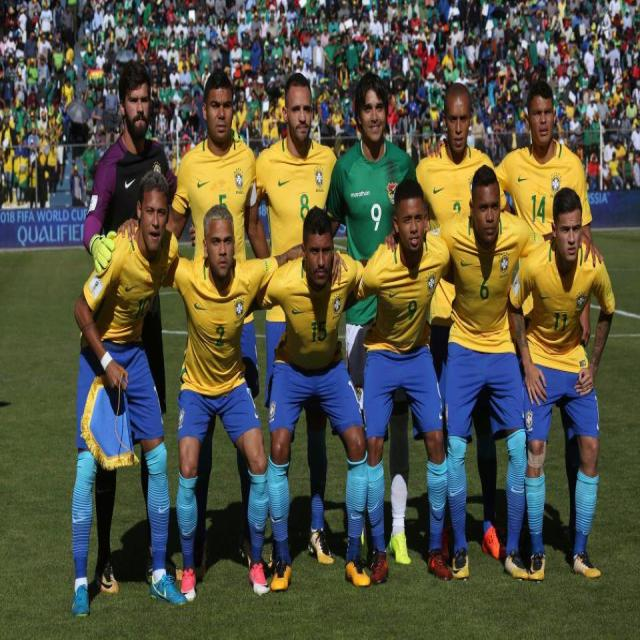body: (0, 0, 639, 209), (382, 161, 607, 585), (115, 200, 351, 604), (423, 73, 596, 554), (116, 64, 272, 581), (188, 70, 339, 566), (378, 77, 518, 565), (296, 67, 420, 565), (80, 57, 188, 598), (71, 171, 181, 623), (244, 204, 370, 593), (341, 177, 457, 583), (503, 182, 619, 586)
